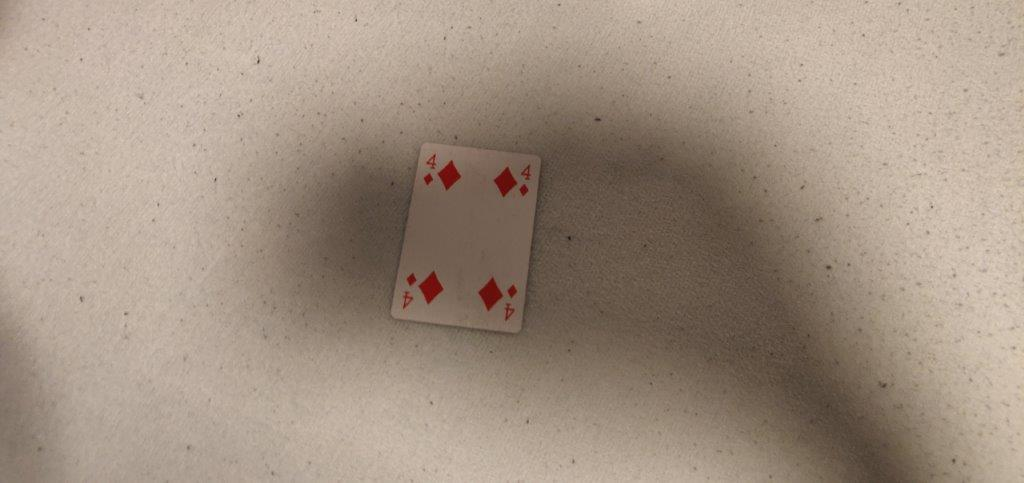4D: (418, 148, 441, 188), (516, 160, 537, 201)
